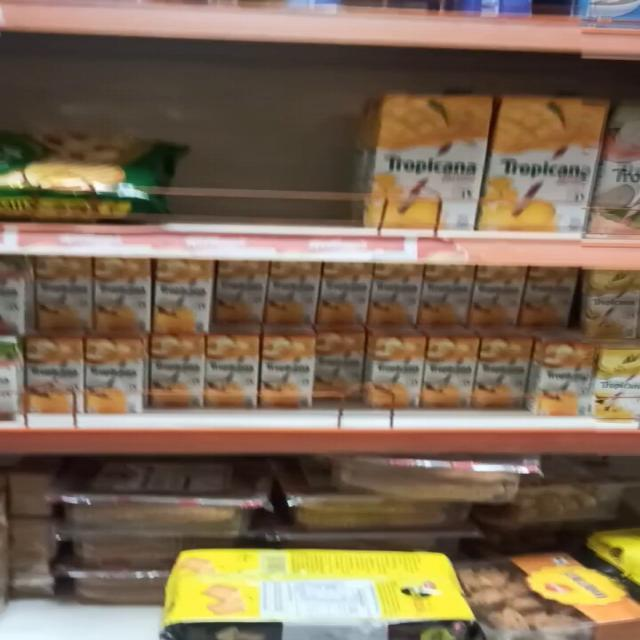Tropicana: (345, 90, 477, 228), (483, 92, 609, 228), (146, 260, 218, 342), (31, 258, 101, 332), (91, 258, 152, 335), (33, 340, 90, 413), (86, 336, 142, 410), (256, 264, 318, 329), (472, 342, 534, 406), (151, 338, 209, 405), (208, 334, 262, 404), (416, 262, 471, 330), (210, 260, 262, 330), (539, 341, 591, 410), (314, 335, 368, 400), (372, 338, 421, 408), (259, 340, 313, 402), (368, 260, 417, 328), (471, 260, 519, 329), (318, 262, 368, 328), (428, 342, 474, 412), (522, 270, 568, 328)
